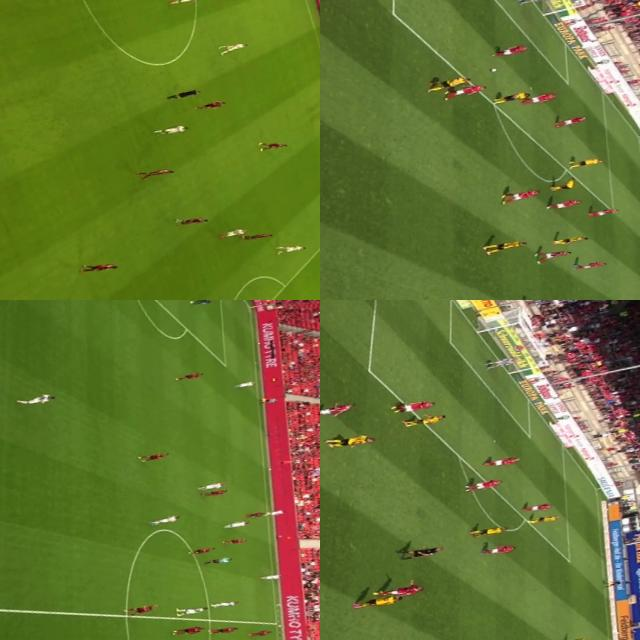ball: (486, 65, 501, 73), (190, 300, 195, 304)
player: (372, 580, 428, 599), (353, 590, 406, 610), (324, 429, 379, 448), (424, 72, 477, 91), (389, 396, 436, 416), (496, 185, 546, 203), (440, 80, 490, 98), (320, 399, 357, 421), (484, 236, 529, 254), (459, 476, 504, 493), (404, 409, 448, 426), (82, 257, 122, 275), (17, 390, 60, 406), (534, 245, 572, 263), (490, 88, 531, 104), (238, 226, 276, 243), (270, 240, 310, 256), (492, 42, 530, 58), (542, 196, 585, 210), (140, 163, 176, 179), (172, 214, 210, 228), (566, 155, 606, 168), (483, 355, 520, 369), (196, 94, 228, 110), (136, 449, 170, 464), (487, 453, 521, 468), (519, 91, 558, 104), (124, 602, 160, 616), (261, 136, 296, 150), (575, 256, 610, 270), (555, 114, 590, 128), (218, 225, 252, 239), (154, 122, 188, 136), (523, 498, 557, 512), (527, 512, 564, 524), (484, 542, 518, 555), (553, 234, 588, 246), (550, 176, 578, 191), (472, 524, 507, 536), (589, 204, 622, 216), (205, 624, 238, 636), (176, 604, 208, 616), (174, 622, 206, 634), (150, 513, 180, 525), (173, 368, 204, 379), (196, 478, 224, 490), (188, 544, 217, 555), (200, 486, 230, 496), (222, 518, 250, 528), (214, 597, 242, 607), (258, 572, 284, 582), (222, 535, 250, 544), (243, 508, 268, 518), (264, 506, 286, 516), (222, 41, 248, 49), (246, 628, 272, 636), (169, 0, 202, 6), (519, 0, 556, 5), (233, 380, 255, 388), (558, 636, 592, 640), (190, 300, 215, 305)
